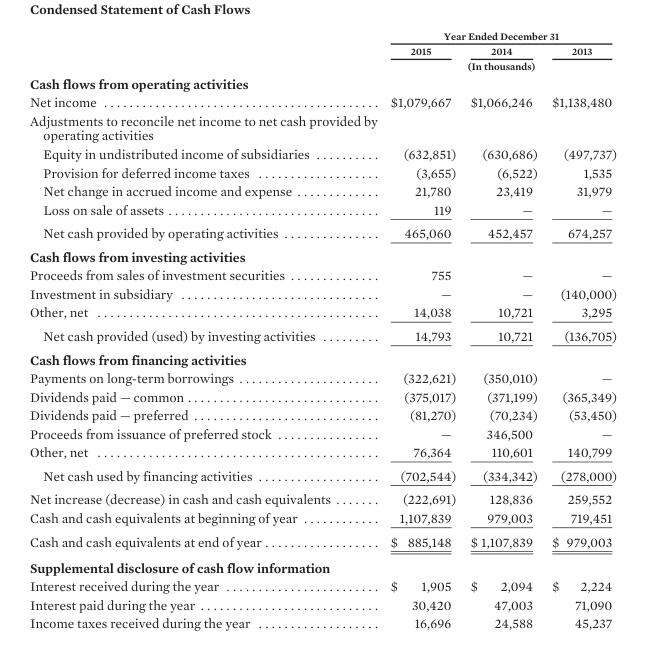table: (28, 29, 616, 630)
table column: (28, 29, 359, 630), (359, 29, 462, 630), (462, 29, 544, 630), (544, 29, 616, 630)
table column header: (28, 29, 616, 73)
table projected row header: (28, 111, 616, 144), (28, 554, 616, 576), (28, 244, 616, 265), (28, 347, 616, 368), (28, 73, 616, 92)
table row: (28, 111, 616, 144), (28, 529, 616, 554), (28, 220, 616, 244), (28, 323, 616, 347), (28, 463, 616, 487), (28, 554, 616, 576), (28, 199, 616, 220), (28, 244, 616, 265), (28, 302, 616, 323), (28, 347, 616, 368), (28, 442, 616, 463), (28, 487, 616, 508), (28, 508, 616, 529), (28, 73, 616, 92), (28, 92, 616, 111), (28, 162, 616, 181), (28, 265, 616, 284), (28, 368, 616, 387), (28, 405, 616, 424), (28, 576, 616, 595), (28, 144, 616, 162), (28, 181, 616, 199), (28, 284, 616, 302), (28, 387, 616, 405), (28, 424, 616, 442), (28, 595, 616, 613), (28, 613, 616, 630), (28, 42, 616, 58), (28, 58, 616, 73), (28, 29, 616, 42)
table spanning cell: (359, 58, 616, 73), (359, 29, 616, 42)
